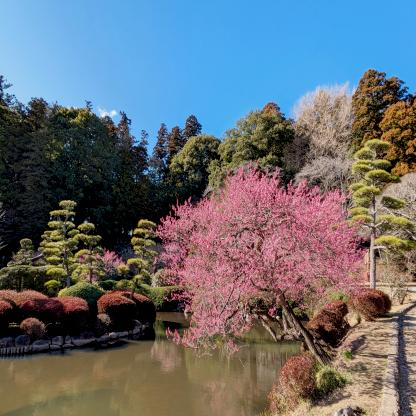Ume: (149, 160, 369, 366)
